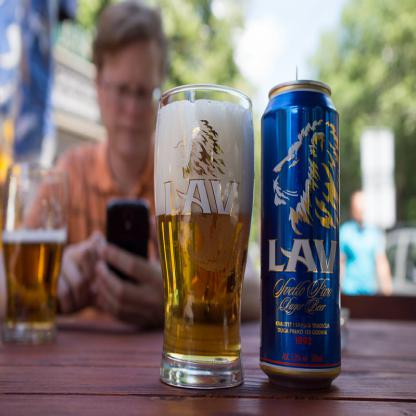drinking: (154, 83, 255, 390)
